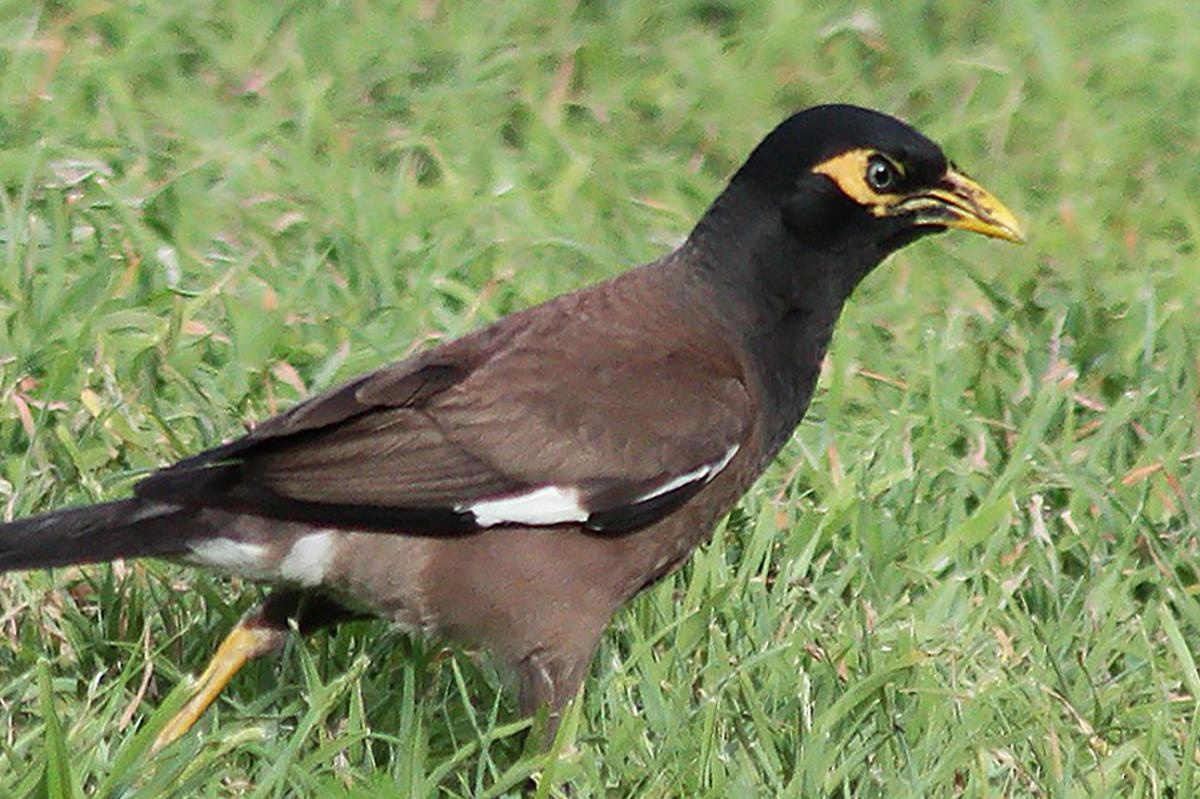myna: (140, 92, 1000, 666)
